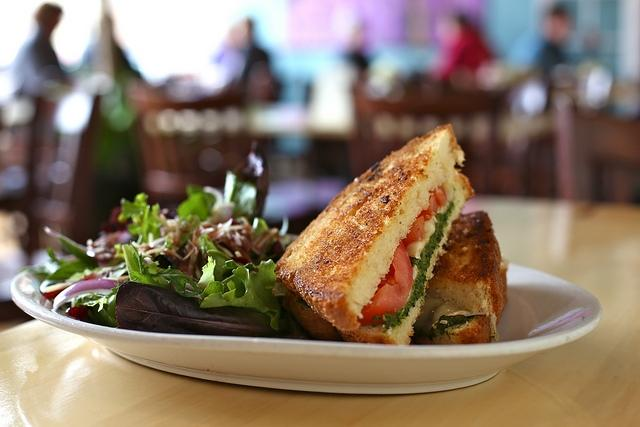tomato: (358, 241, 414, 326), (402, 186, 447, 246)
